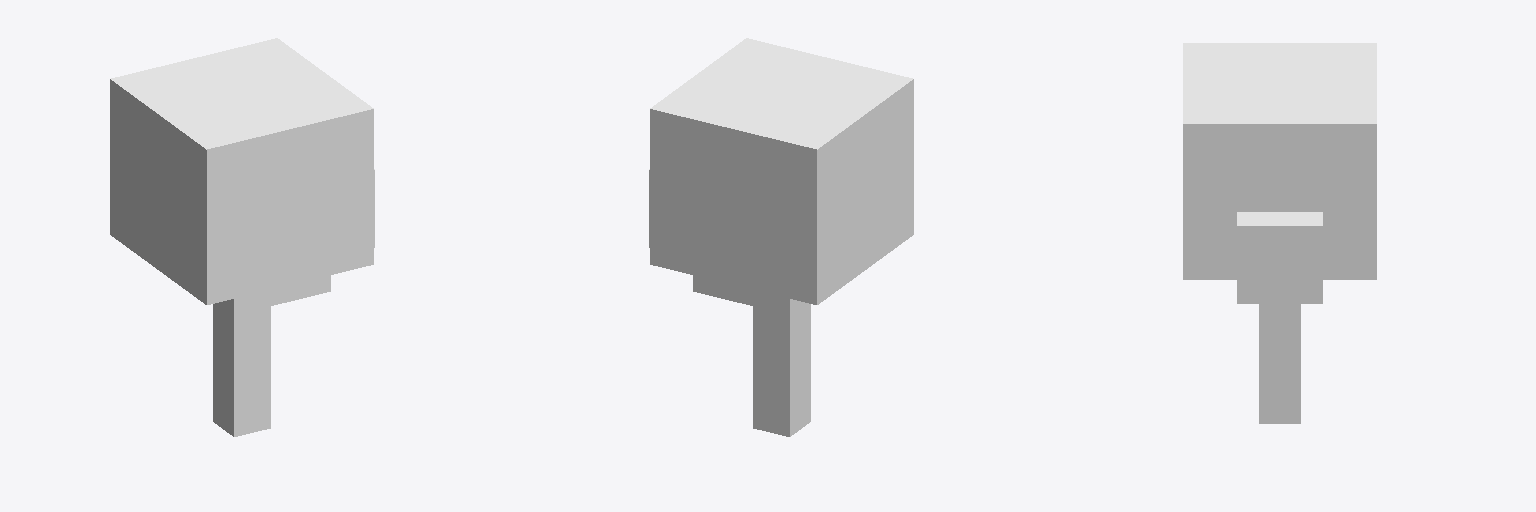
Rendered from tree_large.obj.
3 views of the same model, side by side, from view 1: azimuth 30°, elevation 25°; view 2: azimuth 150°, elevation 25°; view 3: azimuth 270°, elevation 25° (orthographic).
Visible parts, largest first — view 1: object 1; view 2: object 1; view 3: object 1.
Part boxes in pixels (x1,y1,x2,y2): object 1: (110, 38, 374, 436); object 1: (649, 38, 913, 436); object 1: (1183, 43, 1376, 423).
Bounding box in the file's own units: 2.1 × 3.4 × 1.8.